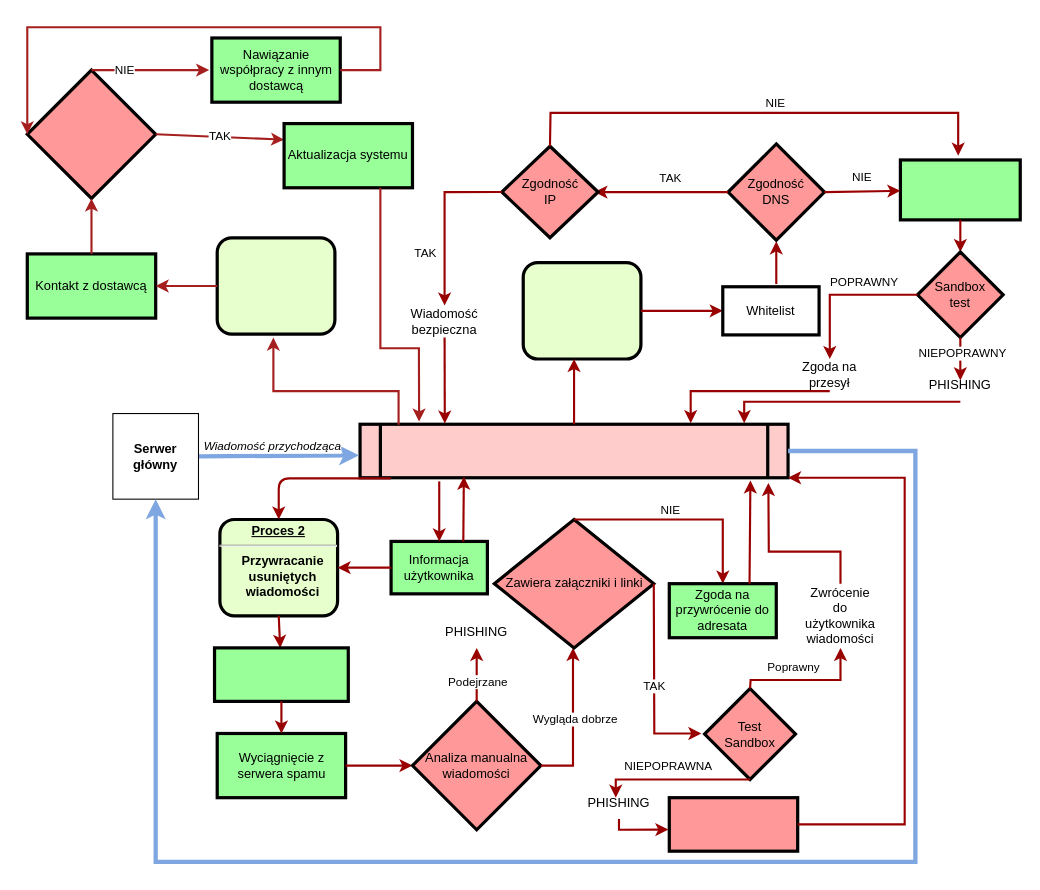
The diagram is 1040 pixels wide and 890 high, and some of its shapes have lost their labels. The shapes that lost their labels are listed below. From the top down, each one's box as (x1, y1, x2, y2) in pixels, then its label:
(25, 68, 157, 200): Dostarczenie usługi
(898, 158, 1021, 221): Zawiera załączniki oraz linki
(215, 236, 336, 335): Proces 3 Aktualizacja whitelist
(521, 261, 642, 360): Proces 1 Analiza wiadomości
(358, 422, 789, 479): Filtr ANTY-PHISHING
(212, 646, 349, 702): Pobranie informacji o usuniętej wiadomości
(667, 796, 799, 852): Poinformowanie użytkownika o usunięciu wiadomości
